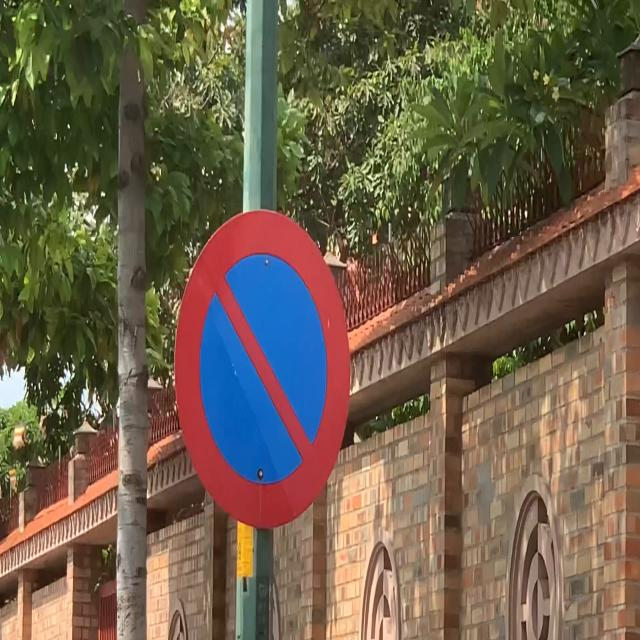Cam do: (160, 197, 355, 538)
